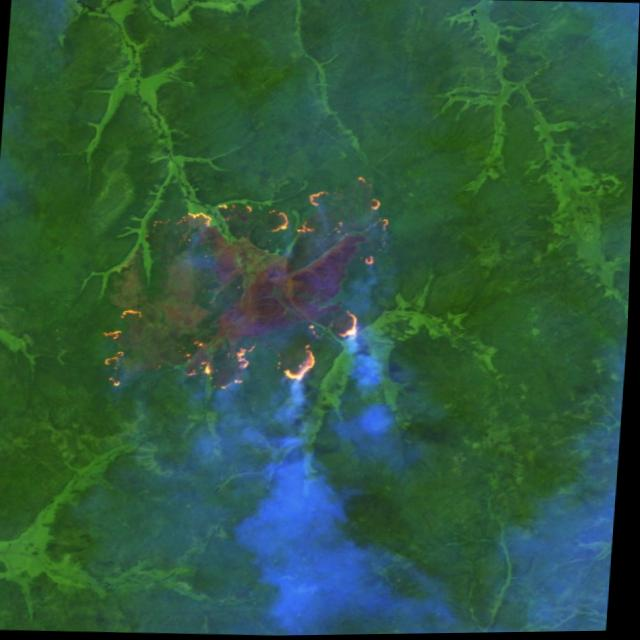fire: (99, 172, 437, 418)
